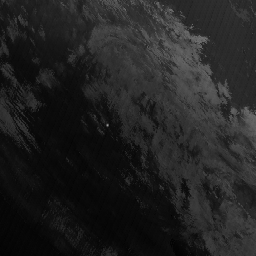Target: (104, 122, 110, 128)
